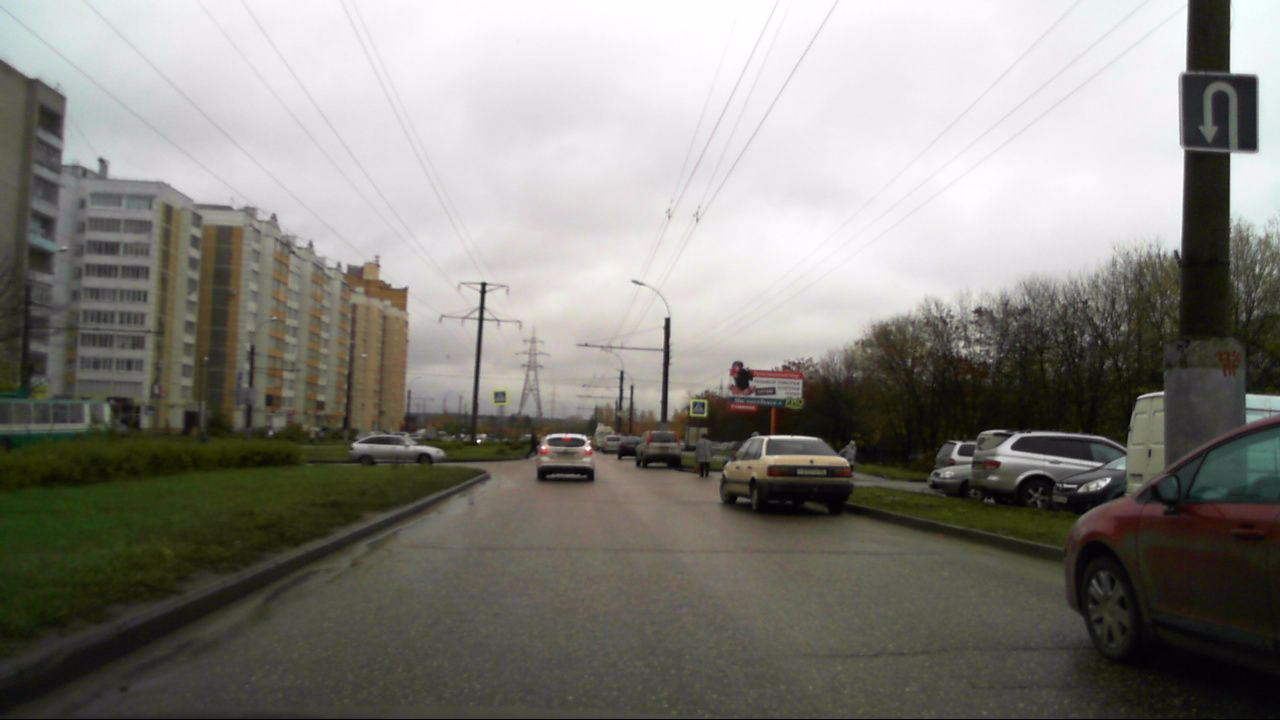U-turn: (1181, 74, 1258, 151)
